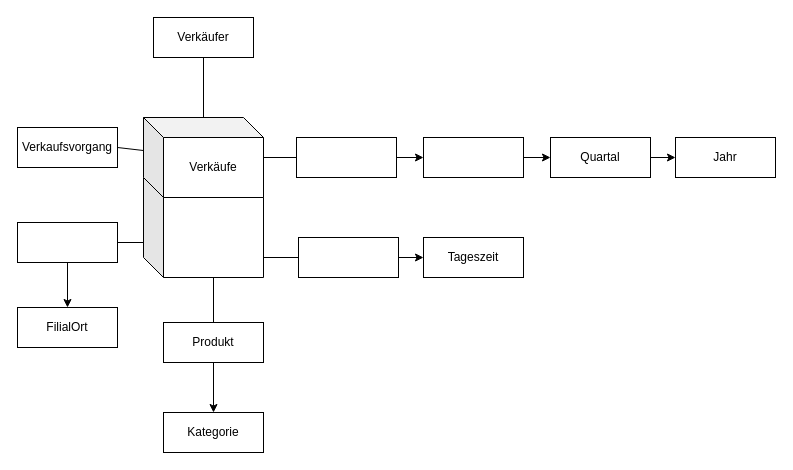
Some shapes in this 793 by 470 pixel diagram are drawn without their labels. The centre of each missing label's shape, as x and y in pixels:
Filiale: pixel 67 242
Monat: pixel 473 157
Stunde: pixel 348 257
Tag: pixel 346 157
Umsatz Gewinn AnzahlProdukte: pixel 203 227
